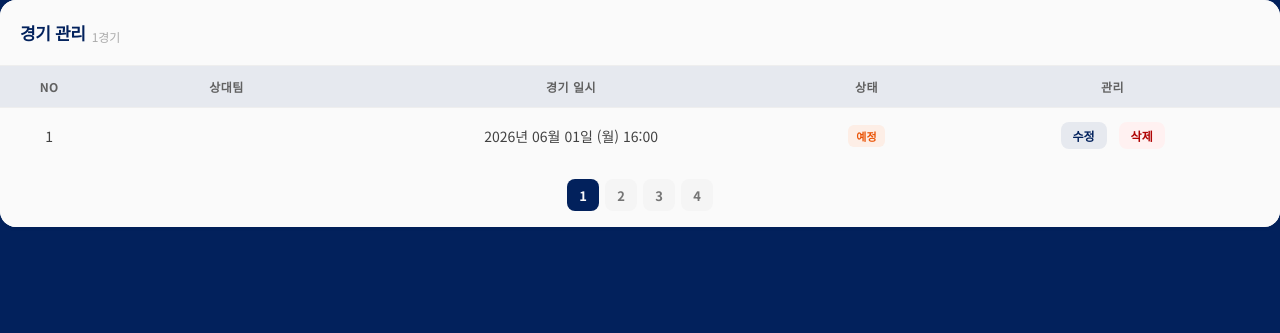
Test: ManageGames › 수정 버튼 클릭 시 아코디언 패널이 열린다
Click the button "수정": (1084, 136) [1060,122,1107,149]
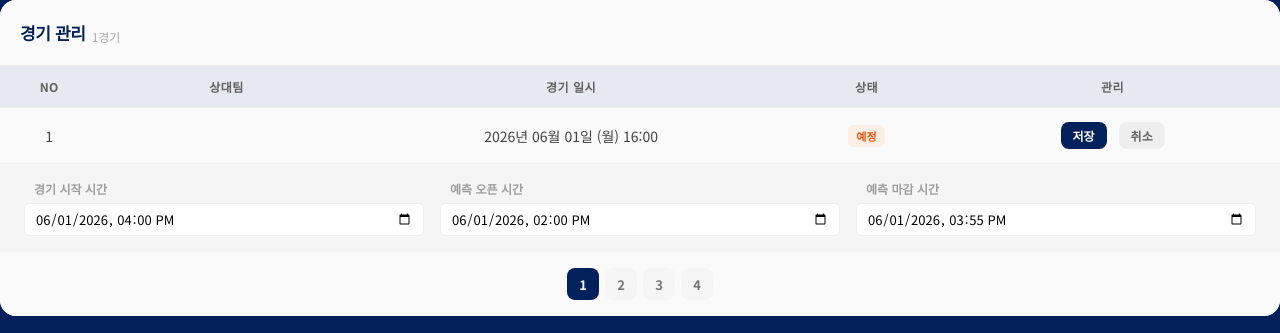
Check: the field labelled "경기 시작 시간" is shown, box [24,203,424,236]
Check: the field labelled "예측 마감 시간" is shown, box [856,203,1256,236]
